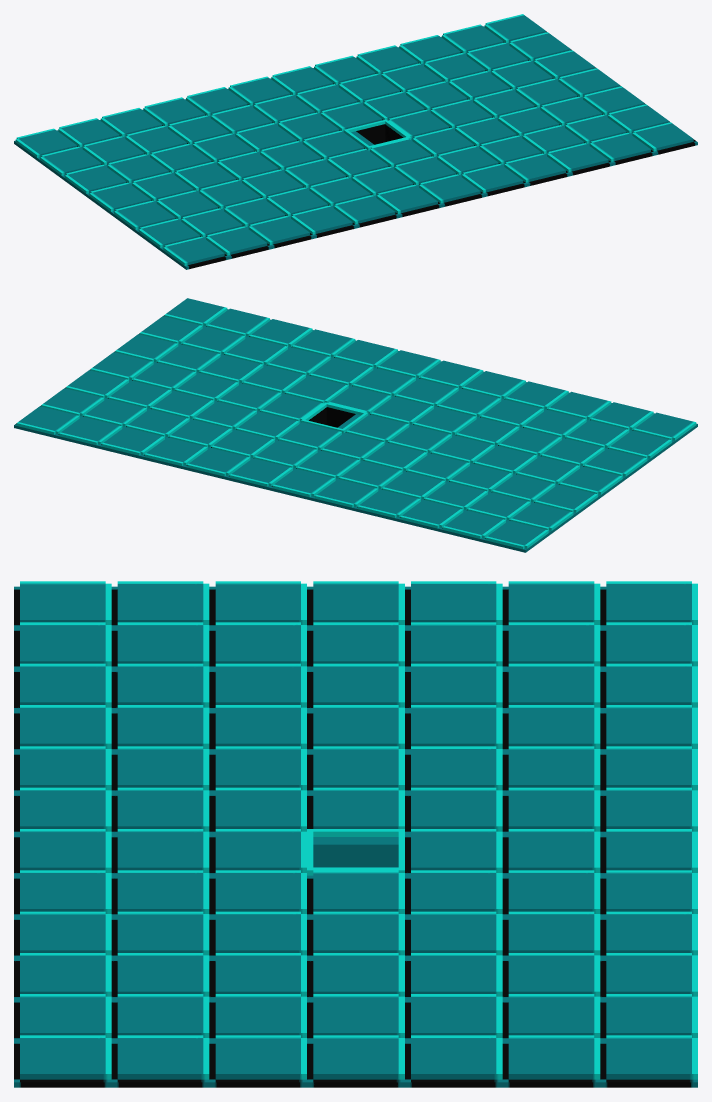
Rendered from FloorStairsMiddle.glb.
The picture shows the model from 3 angles, top to bottom: view 1: azimuth 30°, elevation 25°; view 2: azimuth 150°, elevation 25°; view 3: azimuth 270°, elevation 25°; orthographic projection. The views are drawn at different scales.
Parts seen in each view (by area): view 1: FloorStairsMiddle; view 2: FloorStairsMiddle; view 3: FloorStairsMiddle.
Part boxes in pixels (left/top/right/bottom): FloorStairsMiddle: left=14, top=14, right=697, bottom=269; FloorStairsMiddle: left=14, top=298, right=697, bottom=552; FloorStairsMiddle: left=14, top=581, right=697, bottom=1087.
Size of what is drawn, in the model's own units: 19.2 by 1.6 by 11.2.
Materials: 1 (1 with a texture image).
